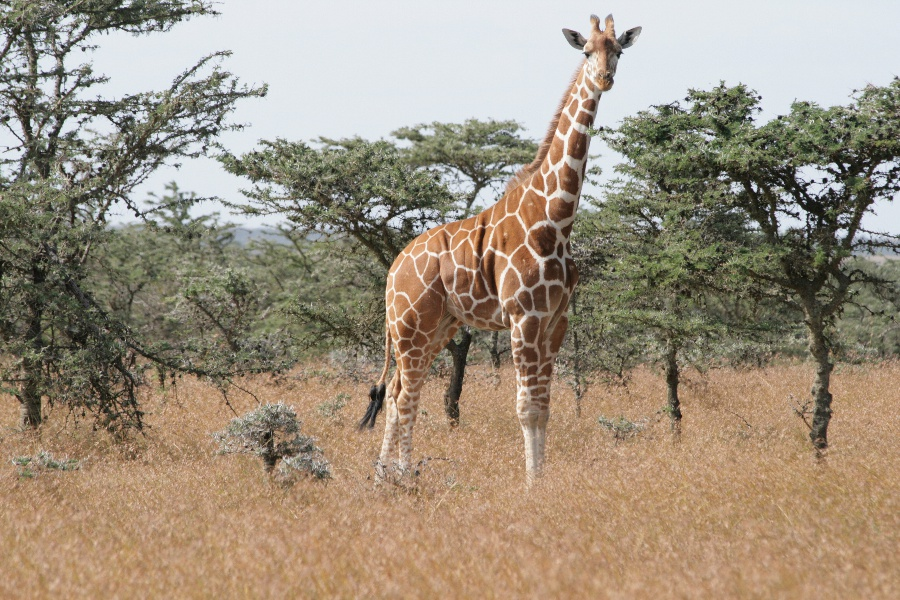giraffe: (367, 8, 642, 485)
